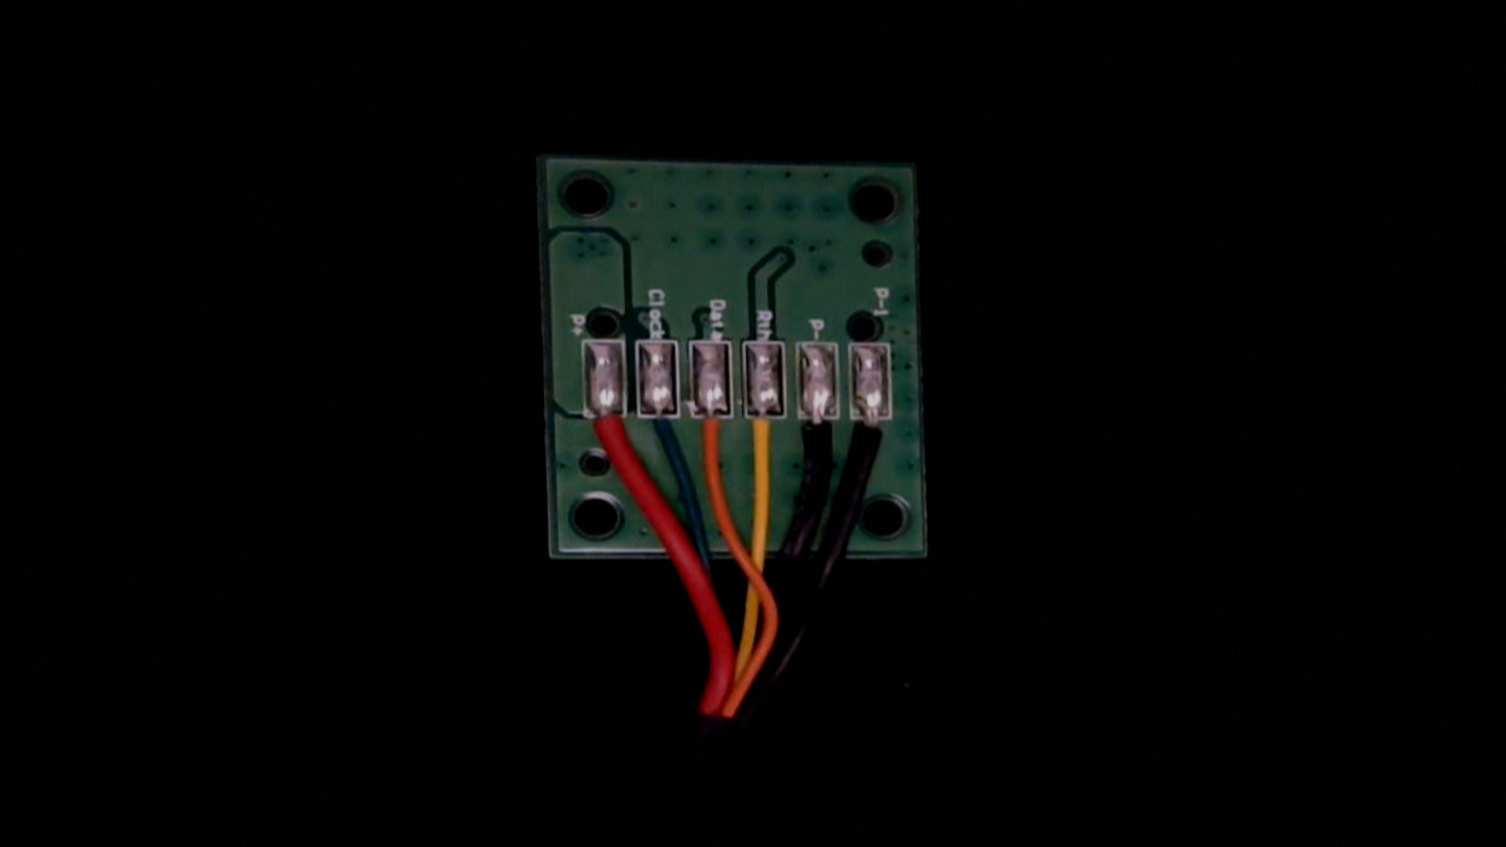Black: (797, 391, 847, 479)
Black1: (852, 395, 901, 476)
Green: (638, 393, 685, 465)
Orange: (692, 394, 740, 481)
Red: (582, 394, 633, 479)
Yellow: (740, 394, 789, 483)
